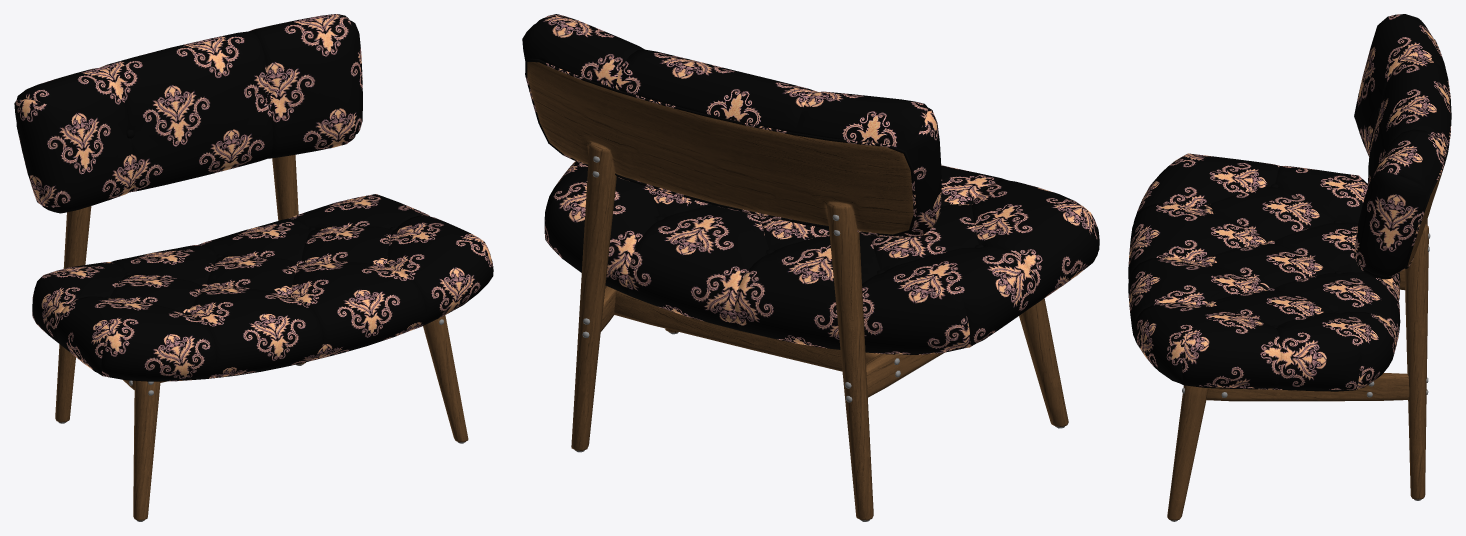
File: sessel_damast.gltf
3 views of the same model, side by side, from view 1: azimuth 30°, elevation 25°; view 2: azimuth 150°, elevation 25°; view 3: azimuth 270°, elevation 25° (orthographic). The views are drawn at different scales.
Visible parts, largest first — view 1: oval-tufted-chair_seat-fabric, oval-tufted-chair_back-fabric, oval-tufted-chair_legs-frame; view 2: oval-tufted-chair_seat-fabric, oval-tufted-chair_back-panel, oval-tufted-chair_legs-frame, oval-tufted-chair_back-fabric, oval-tufted-chair_back-welt; view 3: oval-tufted-chair_seat-fabric, oval-tufted-chair_back-fabric, oval-tufted-chair_legs-frame, oval-tufted-chair_back-welt, oval-tufted-chair_back-panel.
Part boxes in pixels (bbox=[...]): oval-tufted-chair_seat-fabric: bbox=[32, 194, 493, 380]; oval-tufted-chair_back-fabric: bbox=[14, 14, 362, 213]; oval-tufted-chair_legs-frame: bbox=[55, 154, 468, 520]; oval-tufted-chair_seat-fabric: bbox=[544, 161, 1099, 354]; oval-tufted-chair_back-panel: bbox=[527, 62, 913, 234]; oval-tufted-chair_legs-frame: bbox=[571, 142, 1068, 520]; oval-tufted-chair_back-fabric: bbox=[522, 14, 941, 237]; oval-tufted-chair_back-welt: bbox=[525, 58, 916, 236]; oval-tufted-chair_seat-fabric: bbox=[1128, 153, 1400, 390]; oval-tufted-chair_back-fabric: bbox=[1354, 14, 1450, 279]; oval-tufted-chair_legs-frame: bbox=[1167, 219, 1428, 520]; oval-tufted-chair_back-welt: bbox=[1404, 39, 1451, 268]; oval-tufted-chair_back-panel: bbox=[1407, 169, 1443, 266].
Bounding box in the file's own units: 0.8286 × 0.6874 × 0.5718.
Materials: 3 (2 with a texture image).
